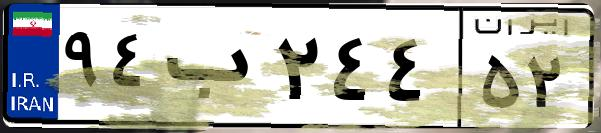2: (270, 28, 330, 110), (525, 38, 570, 115)
4: (385, 28, 445, 110), (330, 28, 385, 110), (110, 28, 158, 98)
5: (475, 38, 525, 113)
9: (57, 26, 110, 100)
ب: (158, 20, 270, 120)
